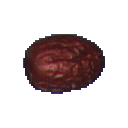gd: (20, 25, 112, 99)
